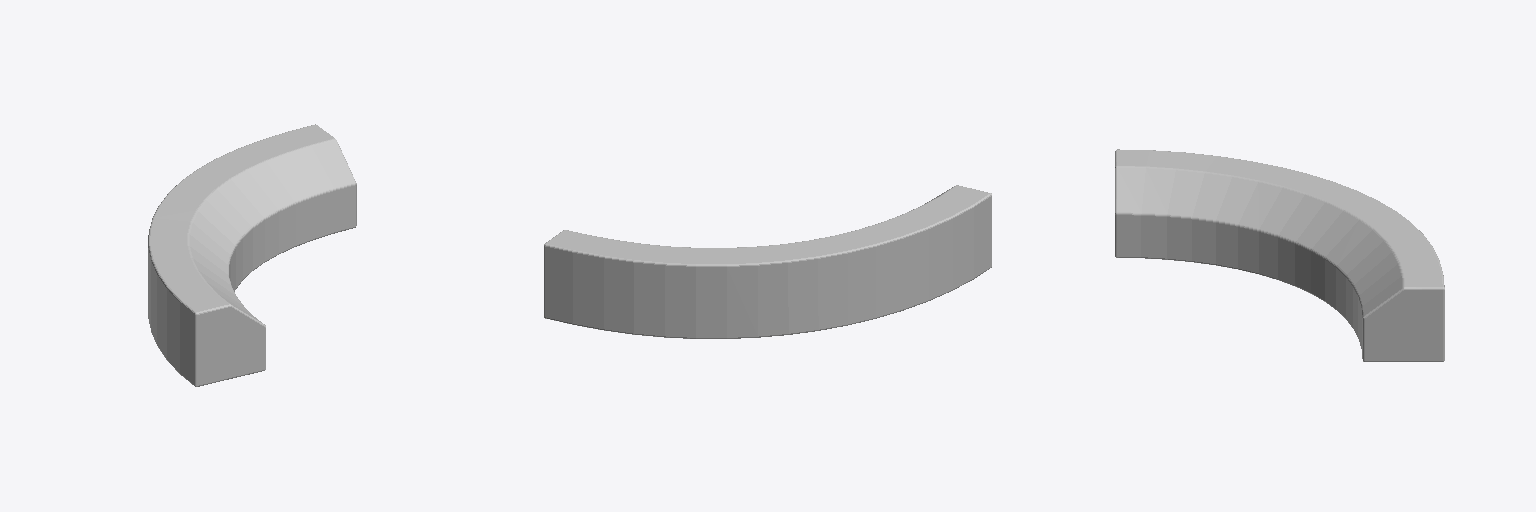
File: Outside_Bend_HP.obj
The picture shows the model from 3 angles: view 1: azimuth 30°, elevation 25°; view 2: azimuth 150°, elevation 25°; view 3: azimuth 270°, elevation 25°; orthographic projection.
Parts seen in each view (by area): view 1: Outside_Bend_HP; view 2: Outside_Bend_HP; view 3: Outside_Bend_HP.
Boxes of the visible parts, box(x1,y1,x2,y2) form: Outside_Bend_HP: box(148, 124, 356, 386); Outside_Bend_HP: box(544, 185, 991, 338); Outside_Bend_HP: box(1115, 149, 1444, 361).
Size of the model in its own units: 4 by 1.01 by 4.